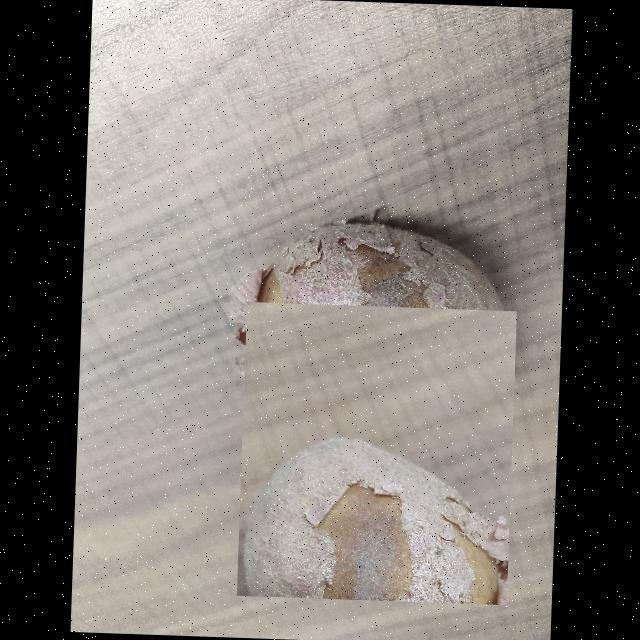Damaged potato: (235, 302, 516, 604)
